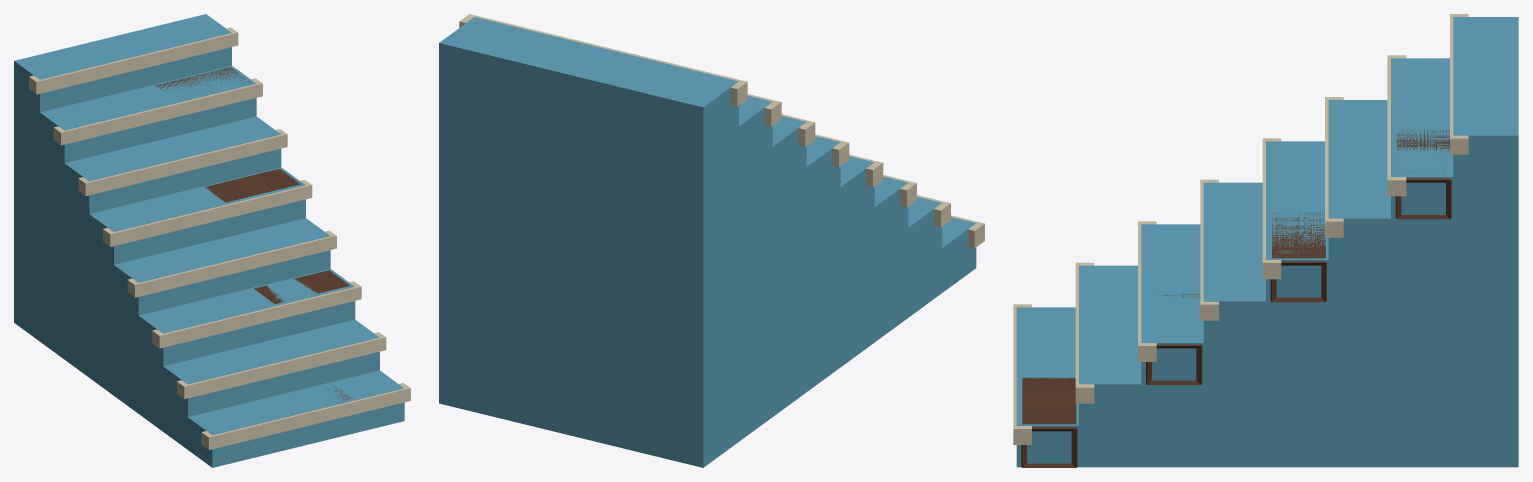
The model's file is stairs-crate-sky.glb.
3 renders of one model, left to right at view 1: azimuth 30°, elevation 25°; view 2: azimuth 150°, elevation 25°; view 3: azimuth 270°, elevation 25°, orthographic. The views are drawn at different scales.
Visible parts, largest first — view 1: stairs-crate-sky; view 2: stairs-crate-sky; view 3: stairs-crate-sky.
Boxes of the visible parts, <box> form: stairs-crate-sky: <box>14,14,410,467</box>; stairs-crate-sky: <box>439,14,984,467</box>; stairs-crate-sky: <box>1013,14,1518,467</box>.
Size of the model in its own units: 1.42 by 1.77 by 2.43.
